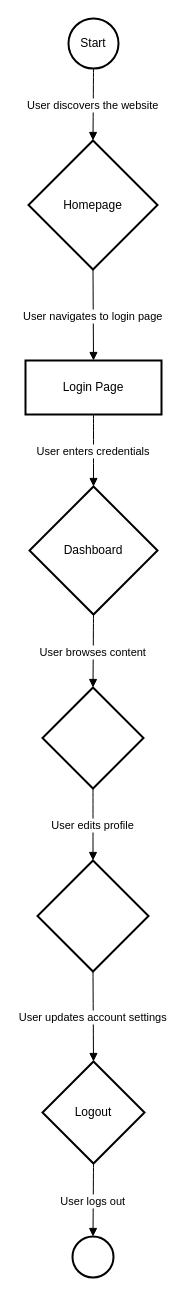
The diagram is 185 pixels wide and 1295 high, and some of its shapes have lost their labels. The centre of each missing label's shape, as x and y in pixels:
"End" goes at point 92,1256.
"Profile" goes at point 92,737.
"Settings" goes at point 92,915.
